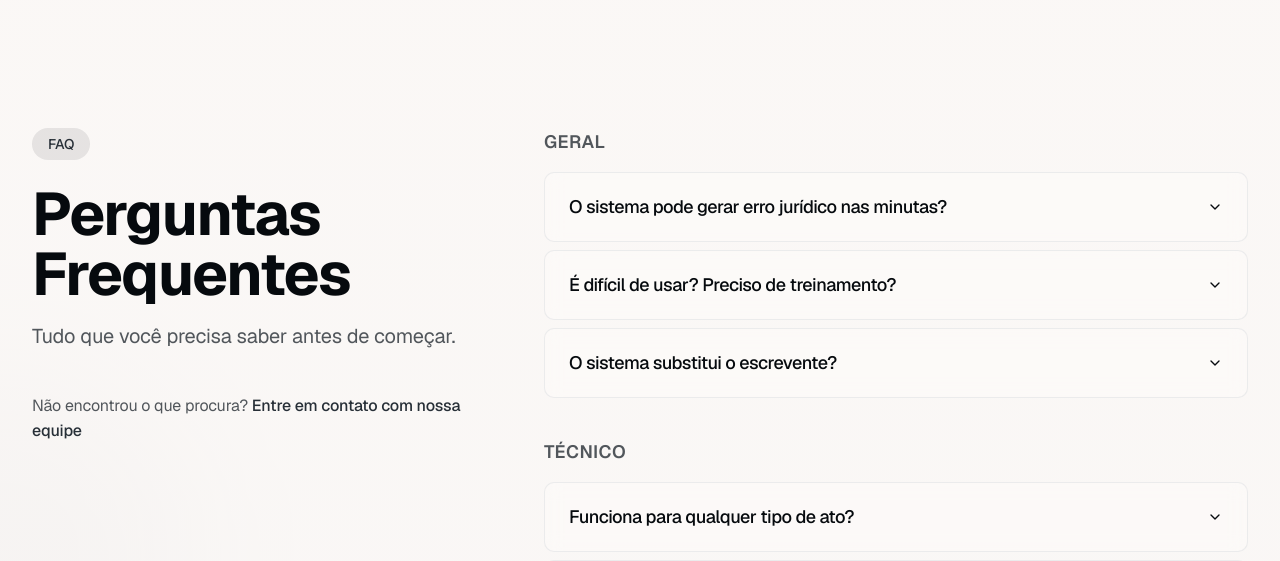
FAQ Component › Accordion Interaction › should expand accordion item when clicked
This screenshot has width=1280, height=561.
Click the button "O sistema pode gerar erro jurídico nas minutas?": [896, 207] box x1=569 y1=173 x2=1223 y2=241
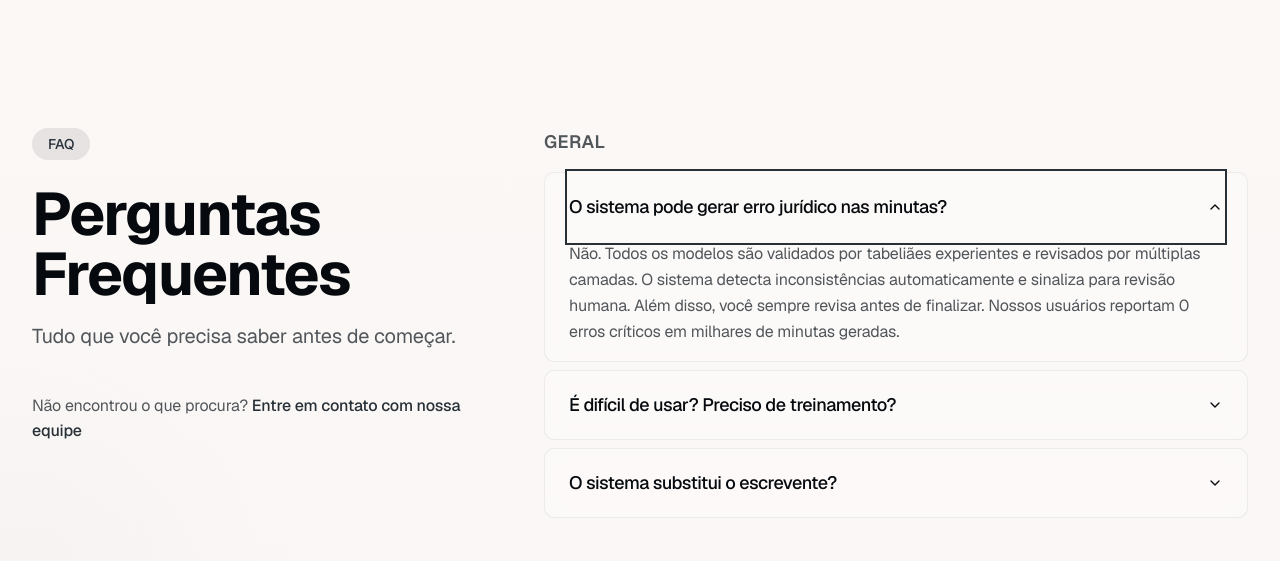
Check: the text "Não. Todos os modelos são validados por tabeliães experientes e revisados por múltiplas camadas. O sistema detecta incon" is shown, box x1=569 y1=243 x2=1200 y2=342
